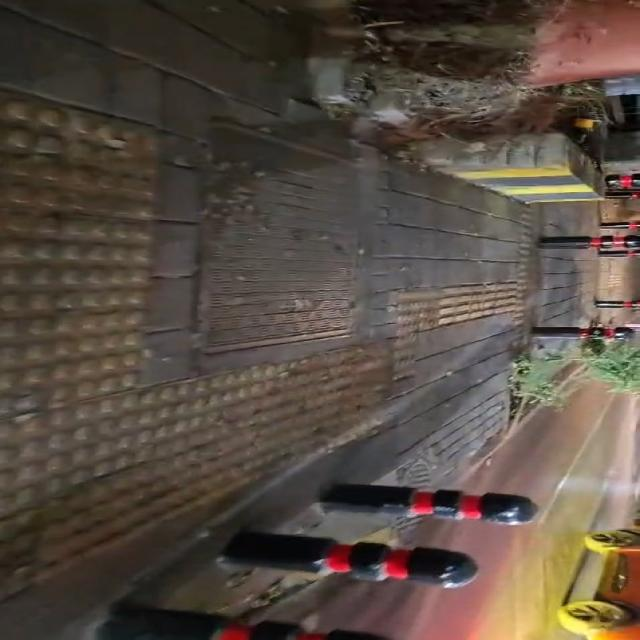obstacle: (220, 532, 477, 588), (97, 607, 381, 639), (320, 485, 536, 524), (532, 327, 634, 341), (539, 235, 639, 249), (604, 174, 639, 191), (595, 300, 639, 309), (600, 221, 639, 230), (604, 189, 639, 199), (599, 250, 639, 258)
